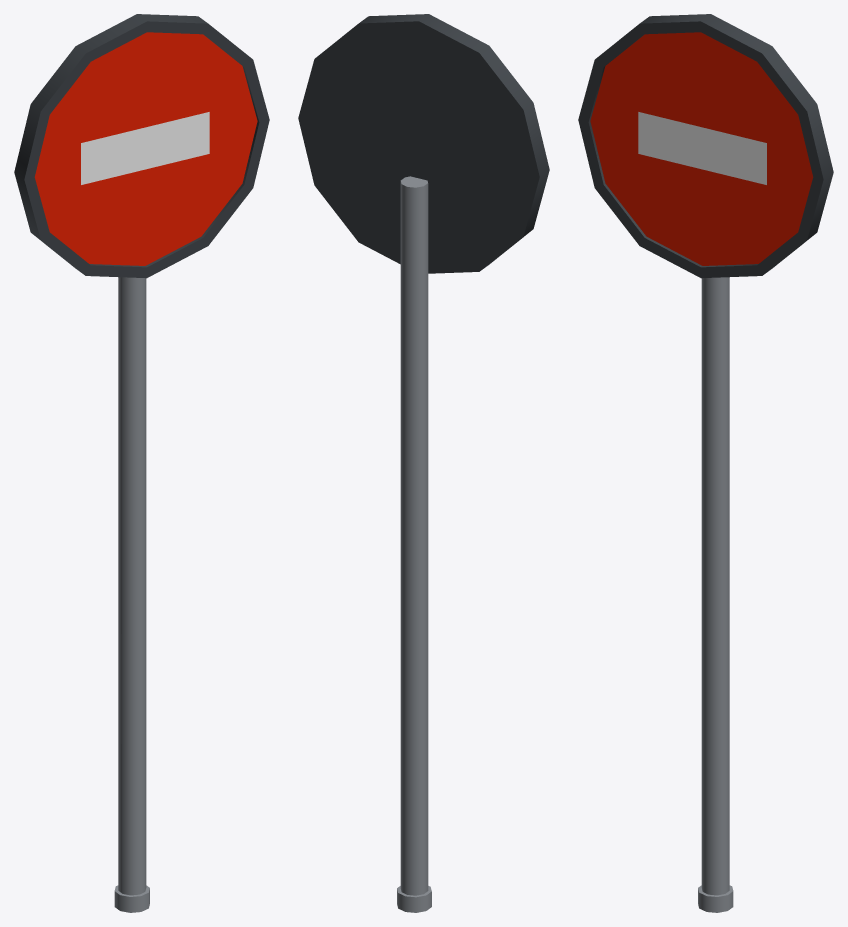
The model's file is Road Sign_1.fbx.
3 renders of one model, left to right at view 1: azimuth 30°, elevation 25°; view 2: azimuth 150°, elevation 25°; view 3: azimuth 330°, elevation 25°, orthographic.
Parts seen in each view (by area): view 1: Road Sign_1; view 2: Road Sign_1; view 3: Road Sign_1.
Part boxes in pixels (x1=…): Road Sign_1: x1=14, y1=14, x2=269, y2=912; Road Sign_1: x1=298, y1=14, x2=549, y2=912; Road Sign_1: x1=578, y1=14, x2=833, y2=912.
Bounding box in the file's own units: 67.25 × 234 × 11.31.
